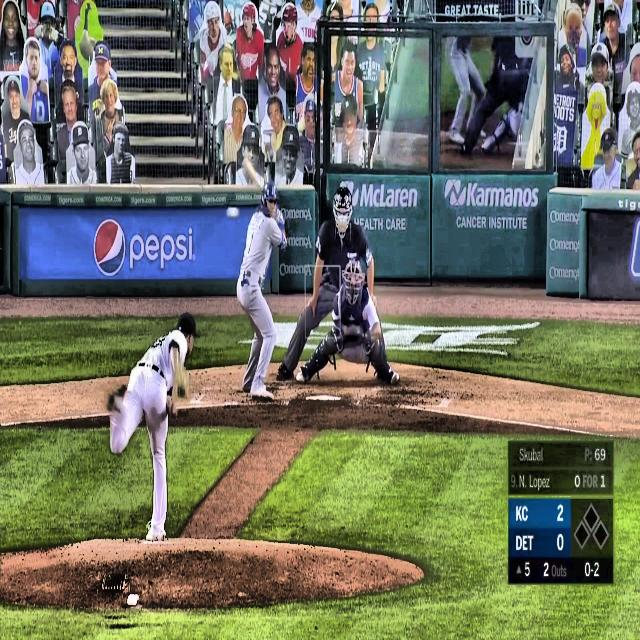baseball: (226, 206, 240, 219)
